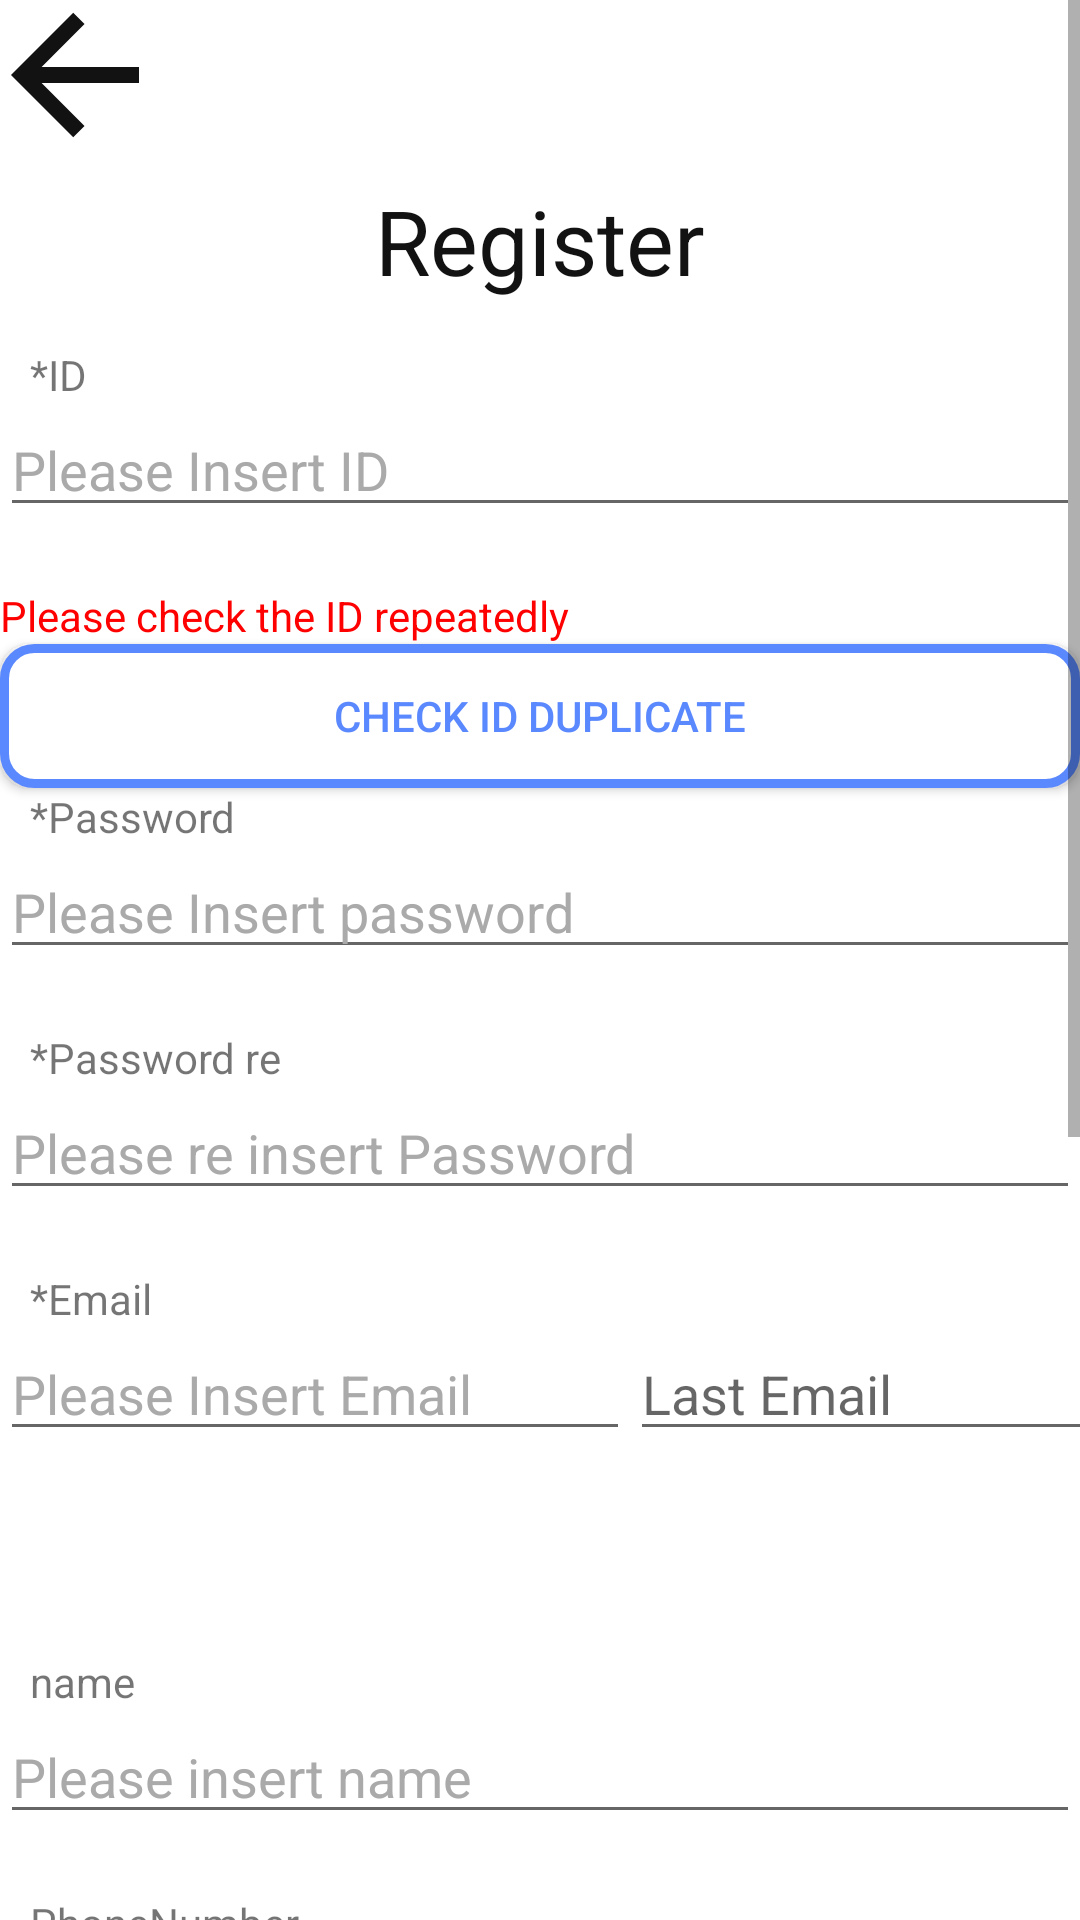

Icons on this 1080x1920 Android screen, each with its box as (x1, y1, x2, y2):
arrow left line: (11, 13, 139, 137)
